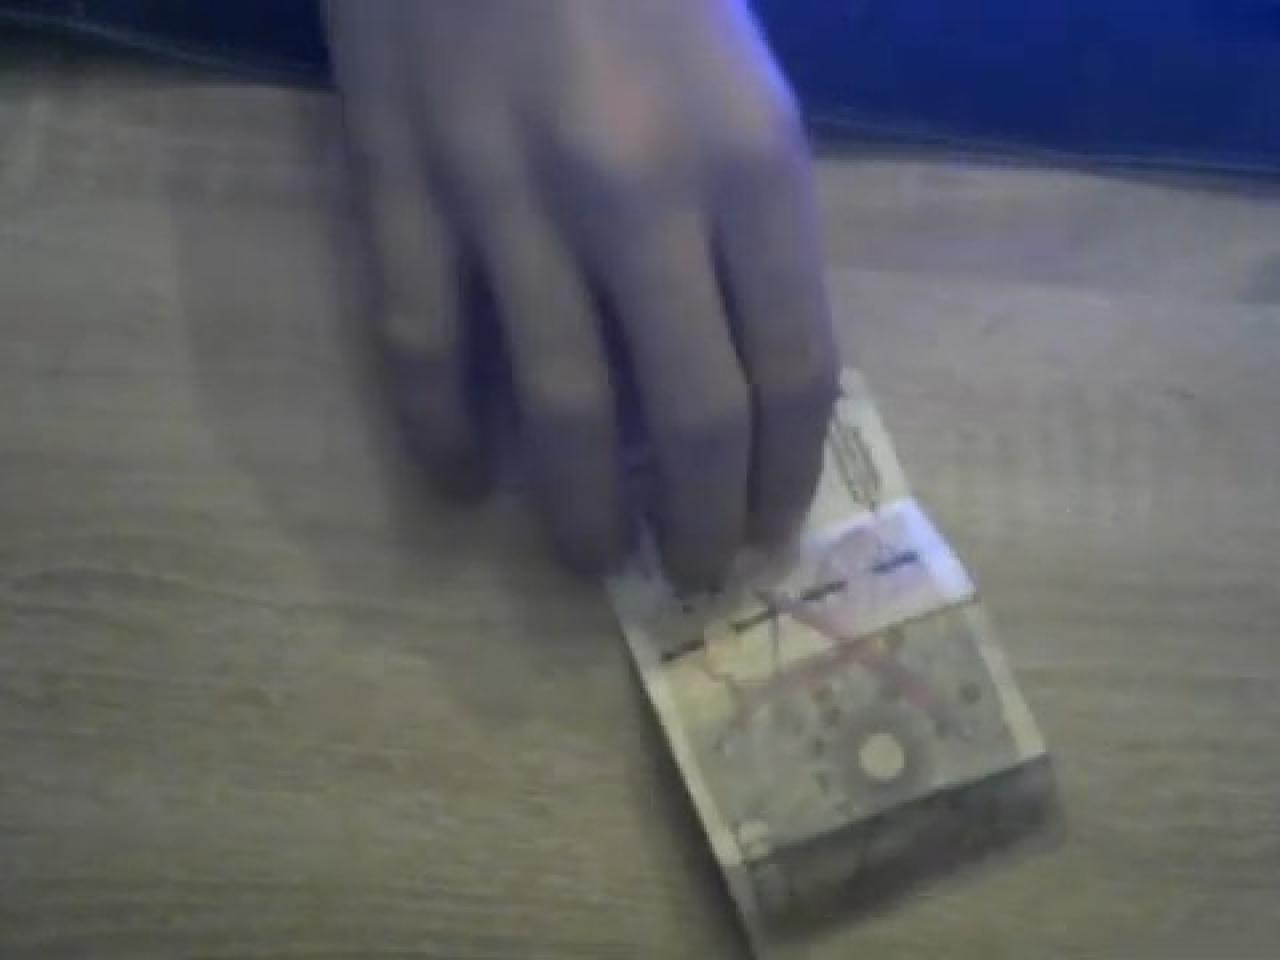10leva: (619, 389, 1066, 960)
